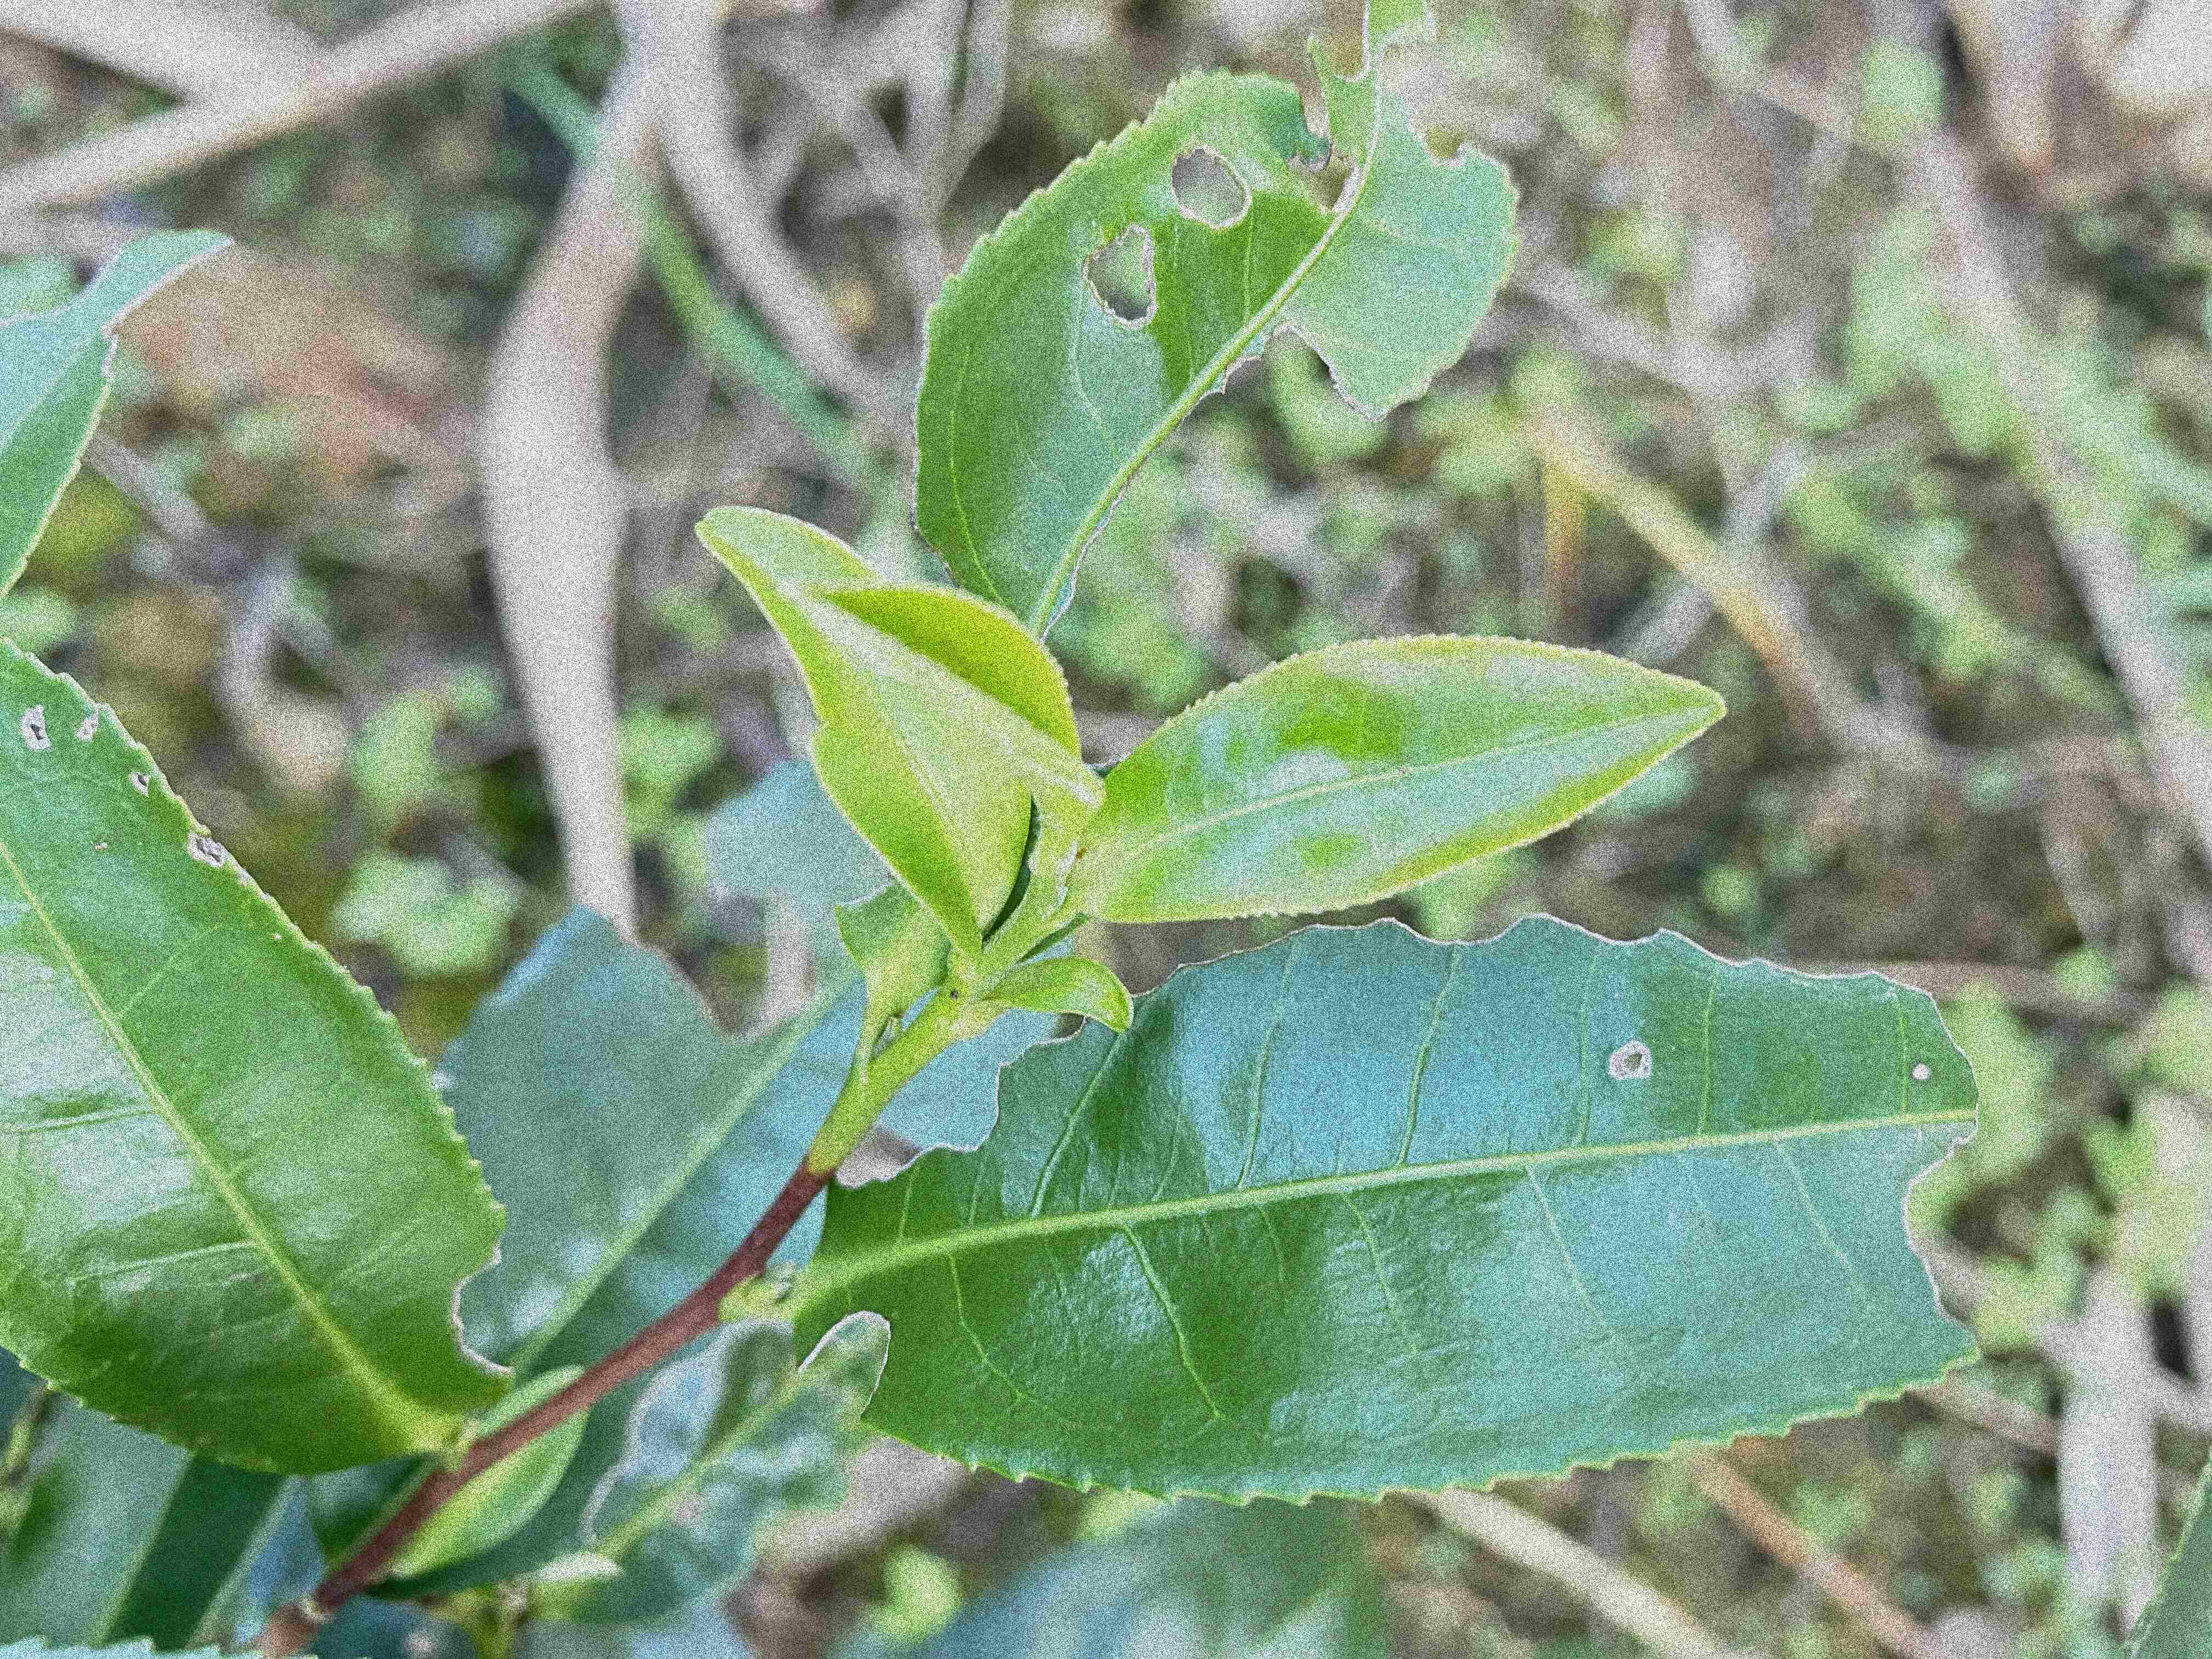chihuo_high: (796, 910, 1987, 1513), (2, 629, 516, 1476), (911, 0, 1526, 641)
healthy: (1066, 633, 1726, 927), (697, 504, 1033, 971)
